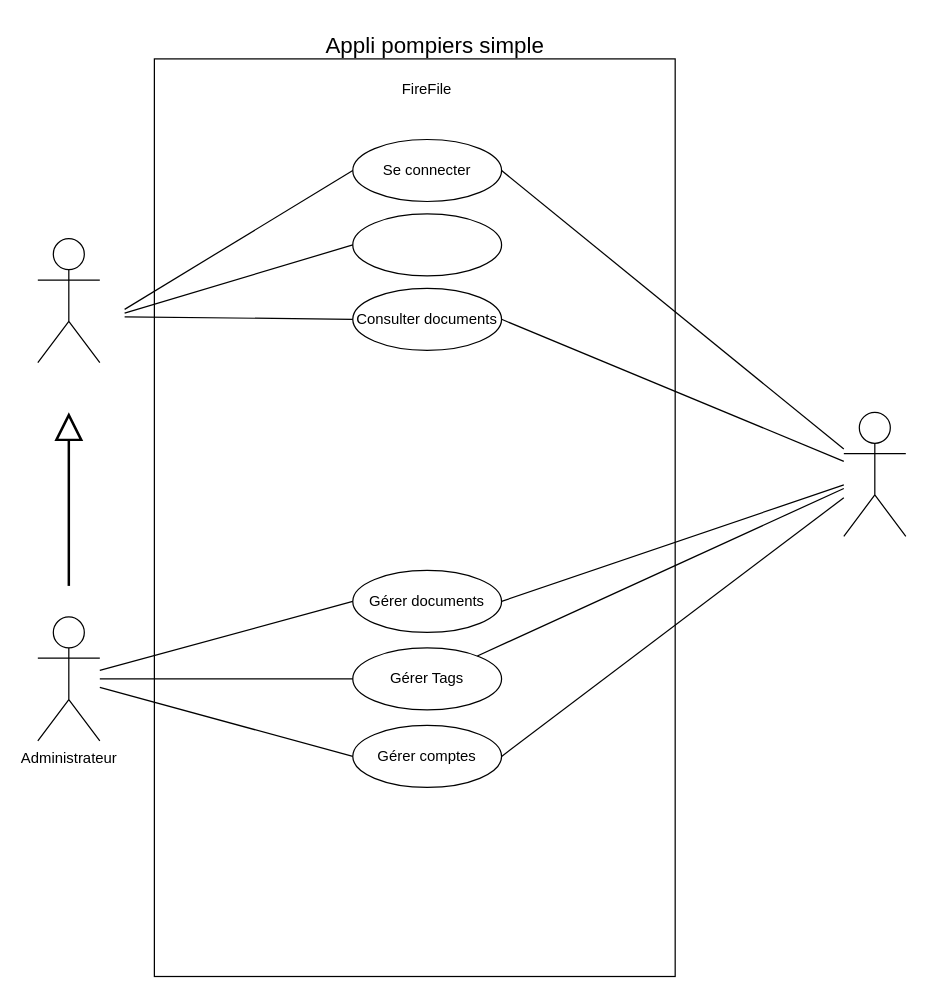
Some shapes in this 935 by 998 pixel diagram are drawn without their labels. Here are the shapes that lost their labels. From the top down, the centre of each, then its label:
At [427,244]: "Se déconnecter".
At [68,300]: "Pompier".
At [874,473]: "Serveur BD".
